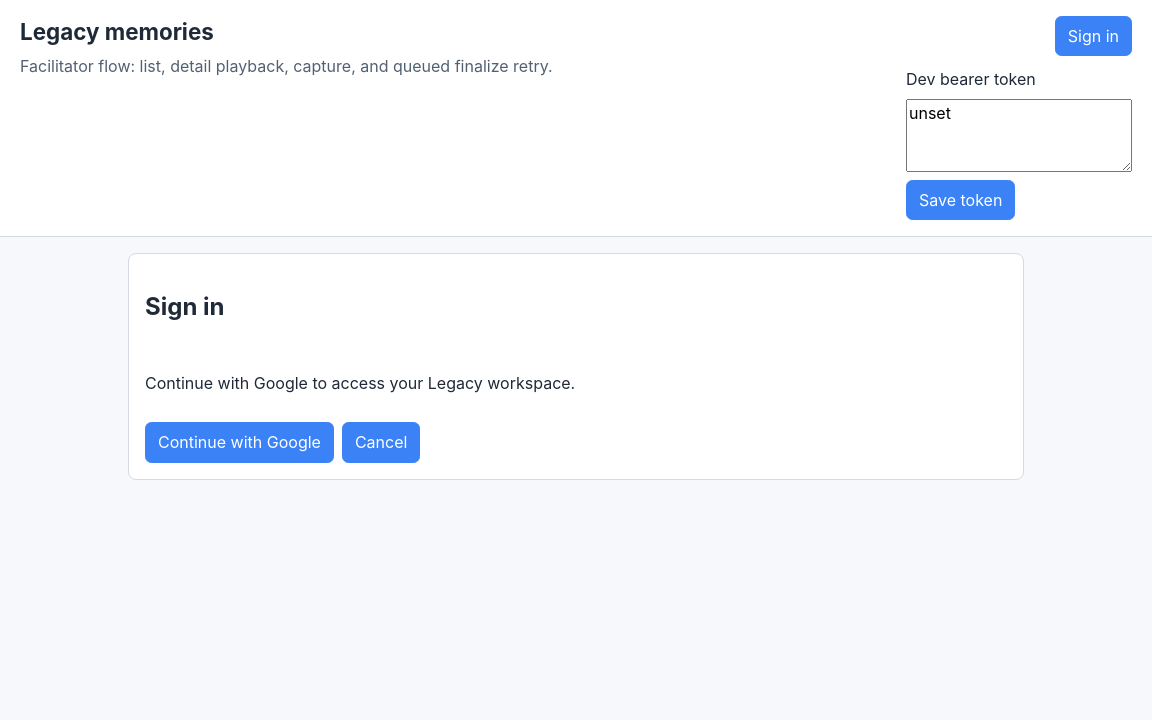
Test: LoginPage › shows a mapped auth error when sign-in fails
The image size is (1152, 720).
What coordinates should you click on to do the following:
click the button "Continue with Google"
I would click on:
 (239, 442)
Its box is [145, 422, 334, 462].
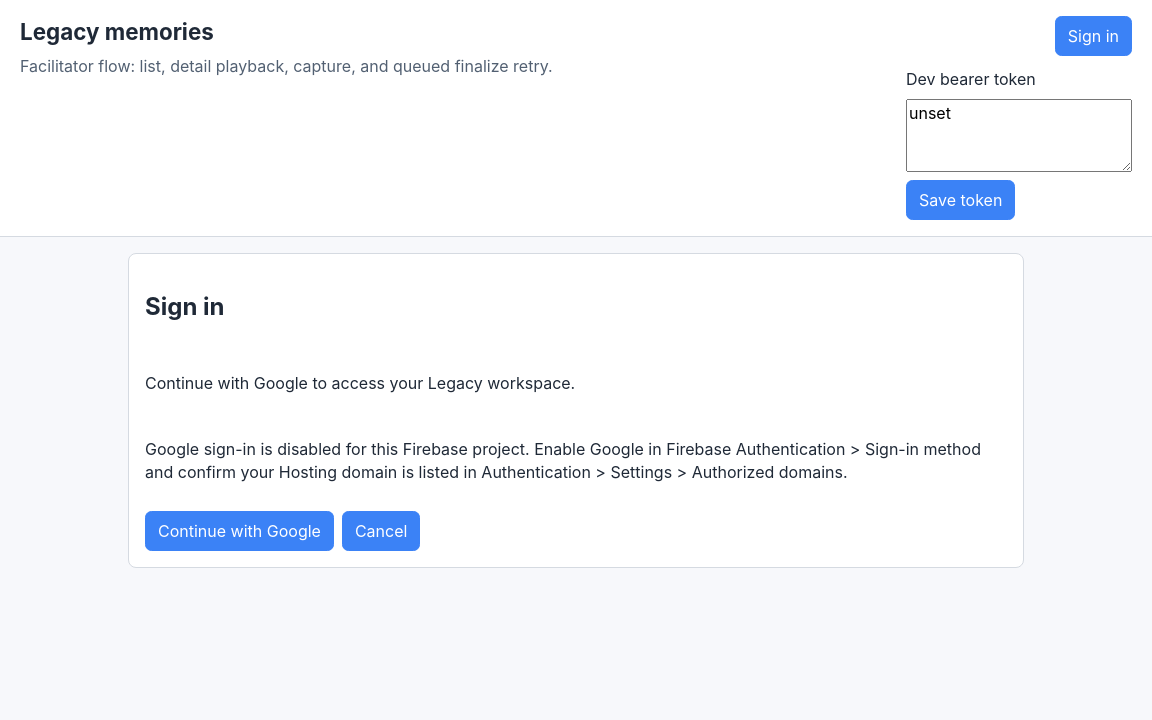
Now the message shows "Google sign-in is disabled for this Firebase project", box [145, 439, 981, 482]
